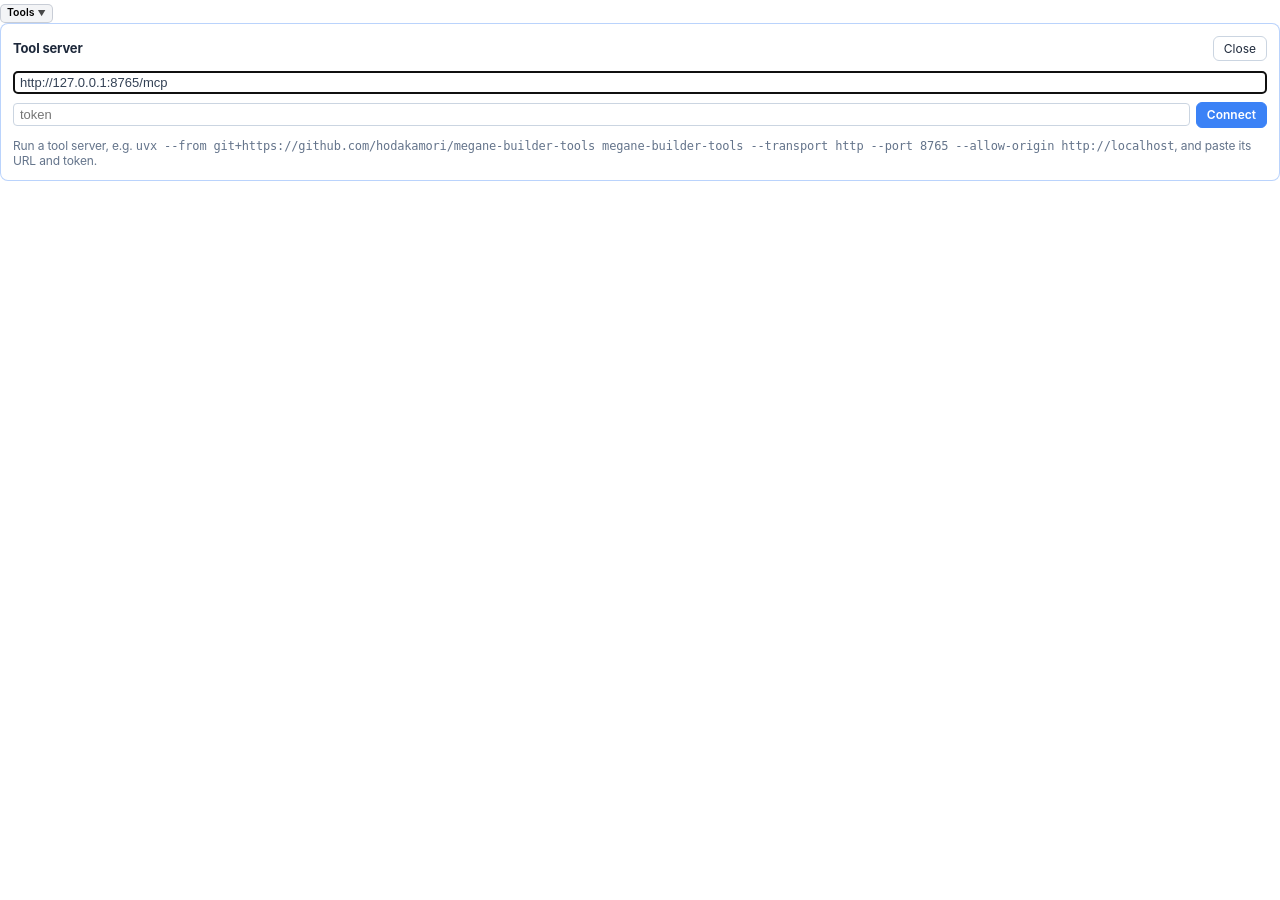
Scenario: Tools menu and Tool server dialog › Cancel gives up on a connect that does not answer
The width and height of the screenshot is (1280, 900).
Click the button with test id "builder-tools-connect": click(1231, 115) 1196,102 -> 1267,128
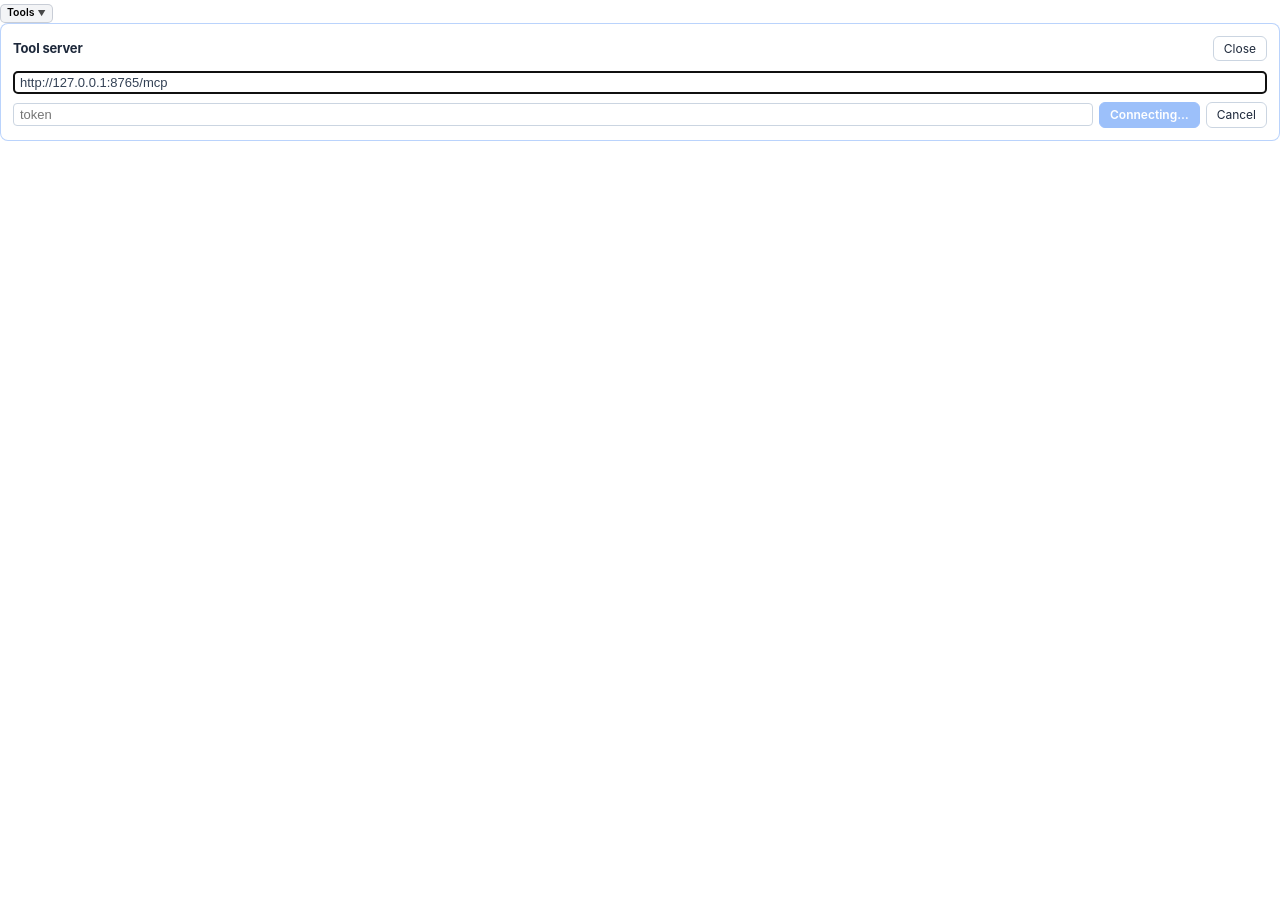
Check: the button with test id "builder-tools-connect" reads "Connecting…", box 1099,102 -> 1200,128
Check: the button with test id "builder-tools-connect" is disabled, box 1099,102 -> 1200,128
Click the button with test id "builder-tools-connect-cancel": click(1236, 115) 1206,102 -> 1267,128
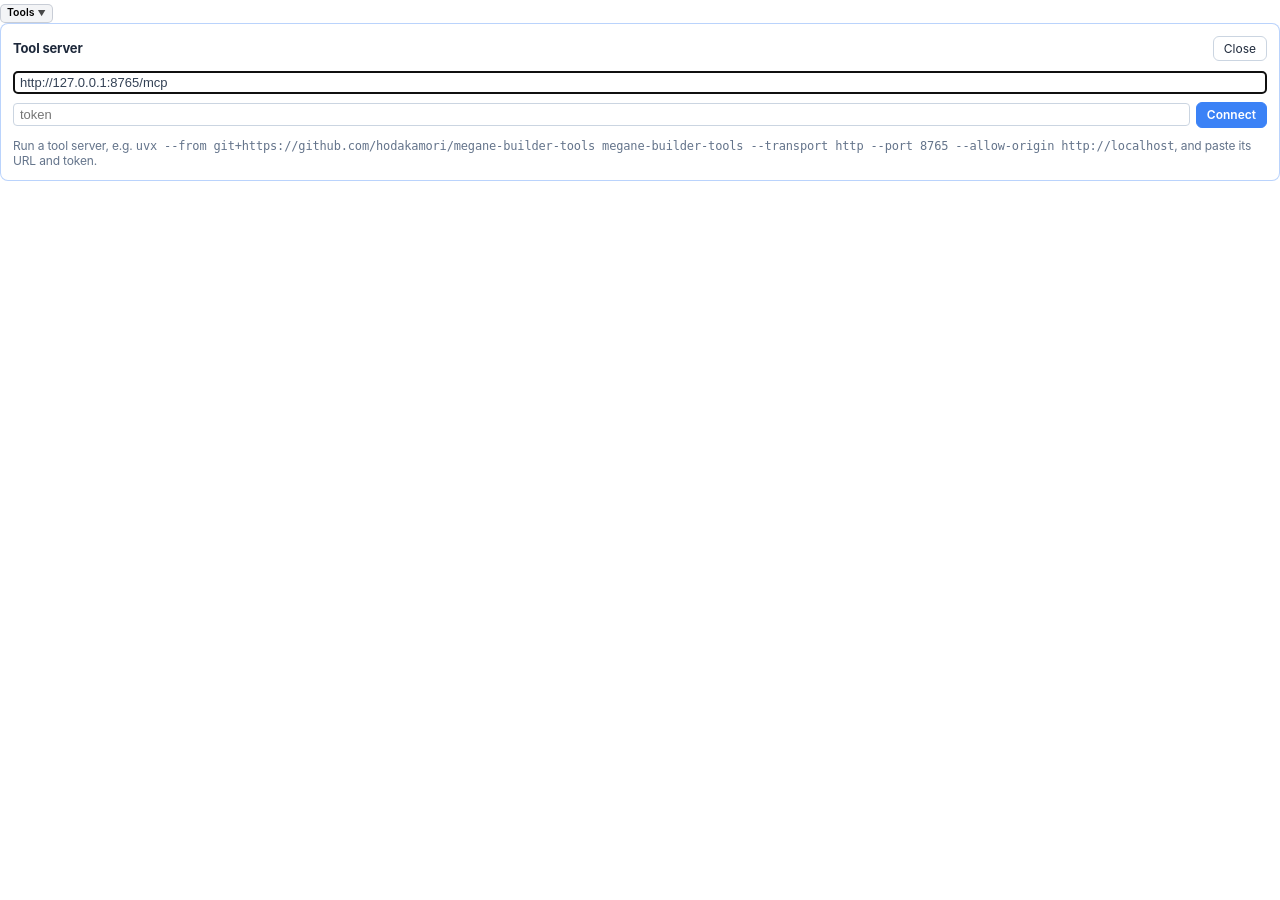
Check: the button with test id "builder-tools-connect-cancel" is gone
